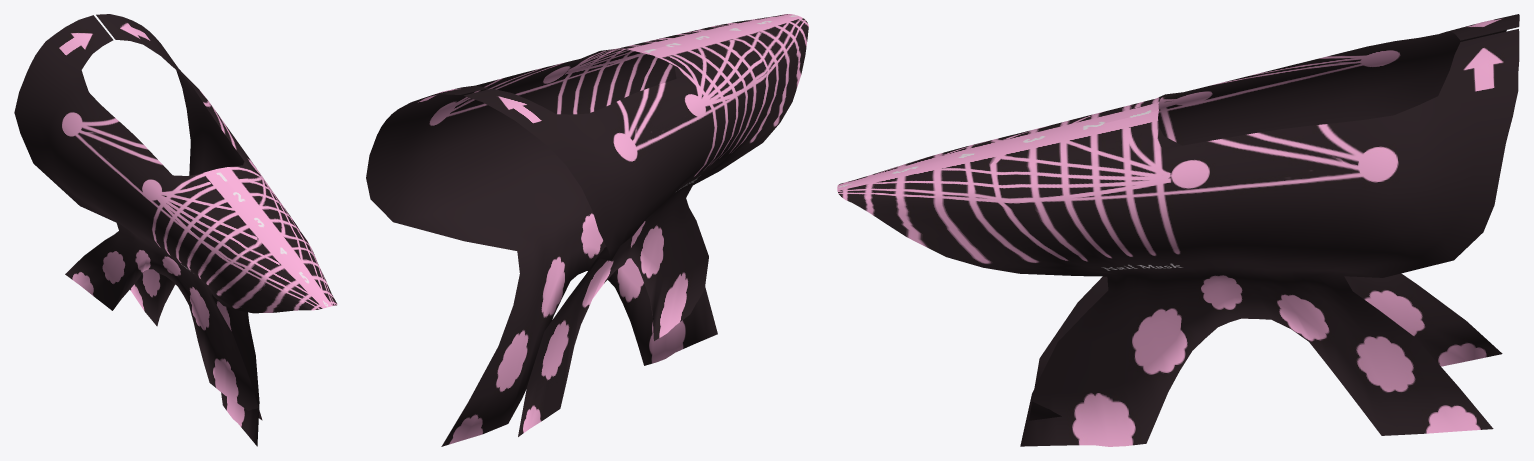
File: New sticker.fbx
3 renders of one model, left to right at view 1: azimuth 30°, elevation 25°; view 2: azimuth 150°, elevation 25°; view 3: azimuth 270°, elevation 25°, orthographic. The views are drawn at different scales.
Visible parts, largest first — view 1: New sticker.001; view 2: New sticker.001; view 3: New sticker.001.
Part boxes in pixels (x1,y1,x2,y2): New sticker.001: (14, 14, 337, 446); New sticker.001: (366, 14, 808, 446); New sticker.001: (837, 14, 1519, 446).
Bounding box in the file's own units: 168 × 287 × 415.
Materials: 1 (1 with a texture image).
